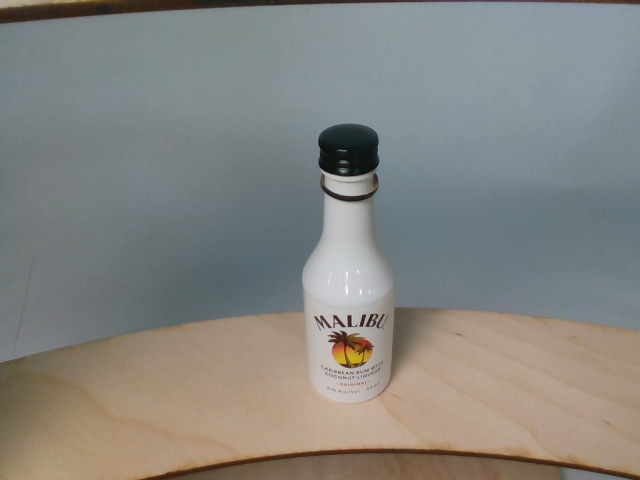tequila: (301, 123, 398, 402)
